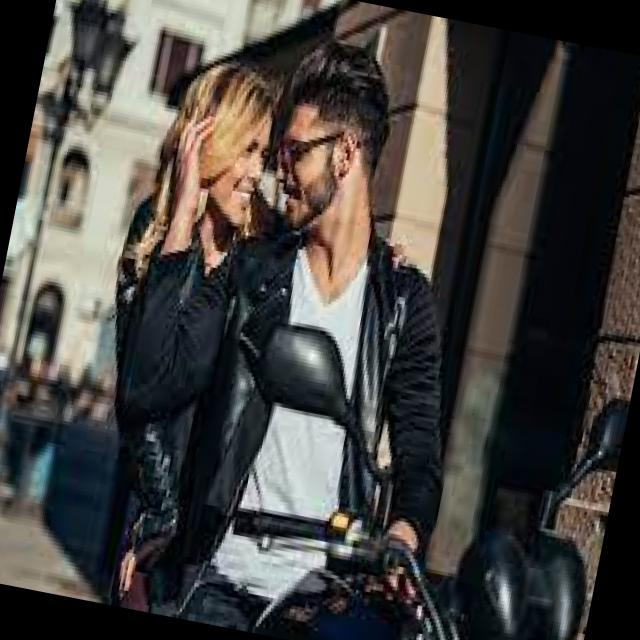Jacket: (82, 175, 494, 640)
